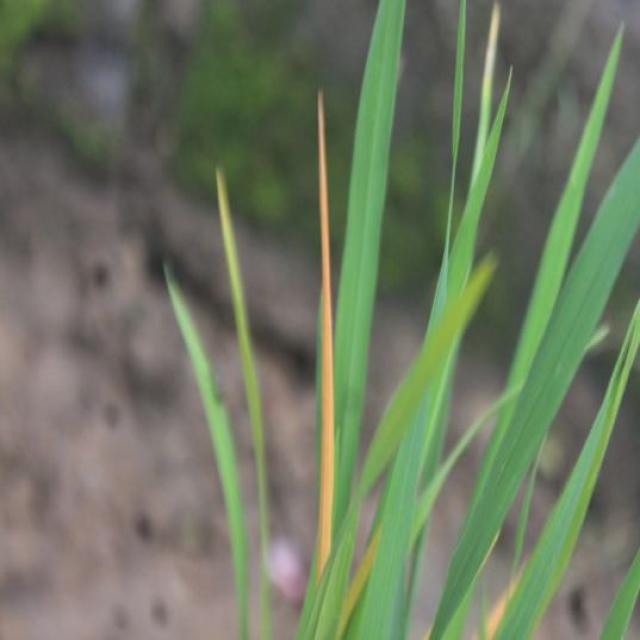Tungro: (292, 69, 345, 588)
